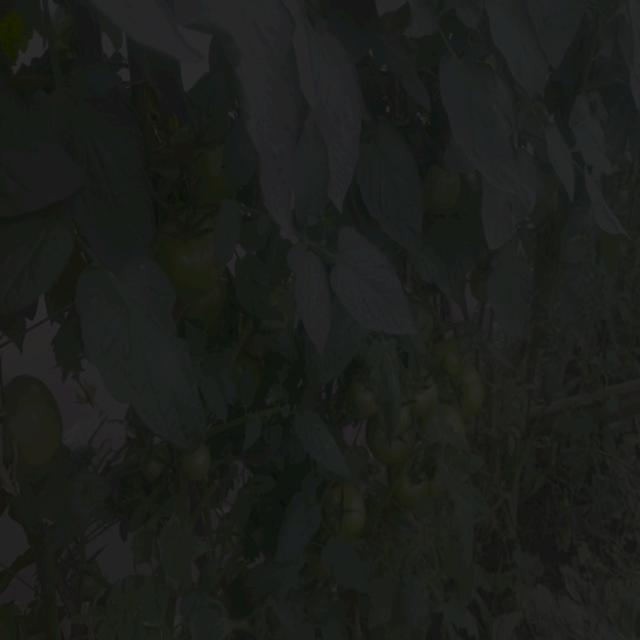tomato: (4, 376, 68, 474), (163, 216, 221, 286), (422, 161, 464, 222), (187, 271, 229, 326), (330, 484, 367, 542), (429, 342, 470, 386), (396, 464, 432, 507), (401, 363, 433, 406), (449, 380, 481, 423), (374, 432, 418, 463), (351, 373, 375, 418), (183, 448, 215, 481), (246, 357, 269, 397), (207, 148, 224, 199), (140, 459, 165, 486)
